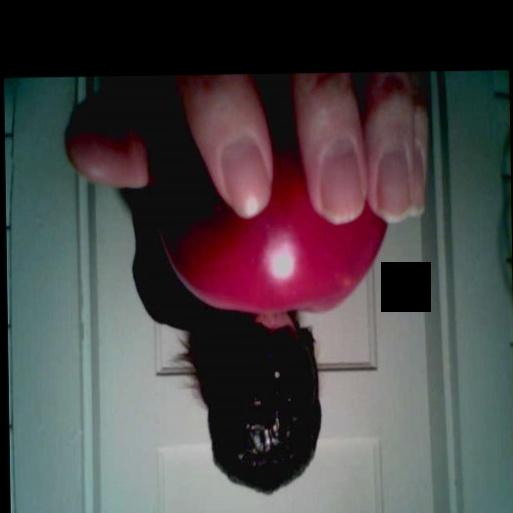red apple: (160, 146, 405, 316)
